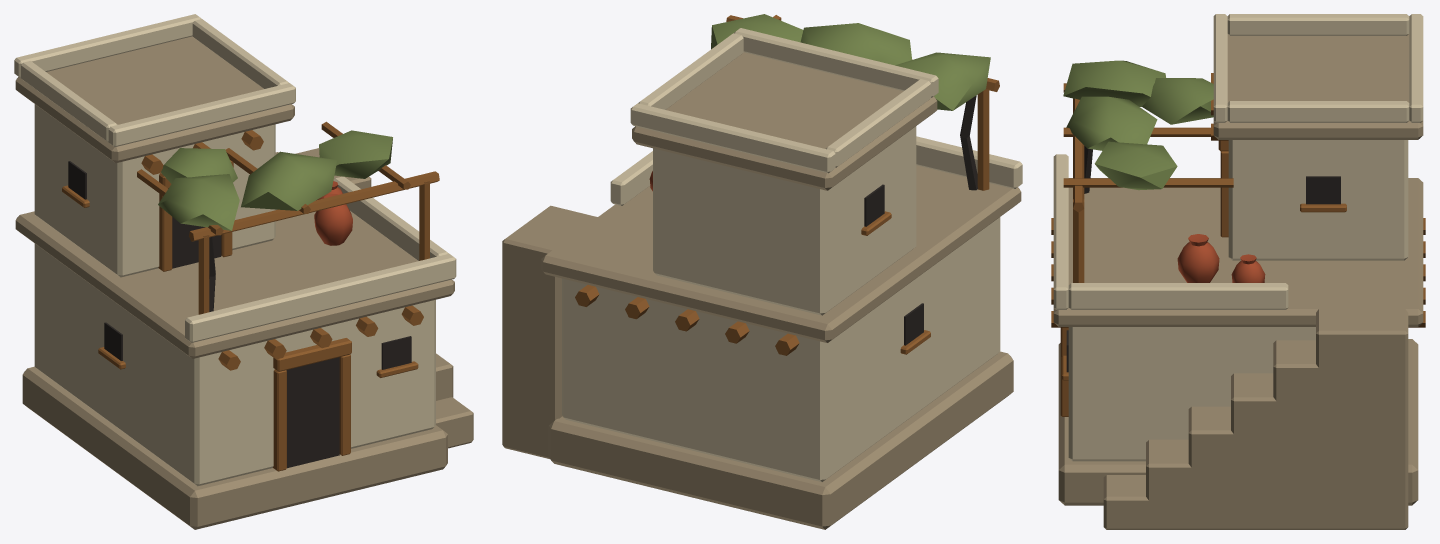
File: houseB.glb
3 views of the same model, side by side, from view 1: azimuth 30°, elevation 25°; view 2: azimuth 150°, elevation 25°; view 3: azimuth 270°, elevation 25° (orthographic). The views are drawn at different scales.
Visible parts, largest first — view 1: houseB; view 2: houseB; view 3: houseB.
Boxes of the visible parts, box(x1,y1,x2,y2) form: houseB: box(14, 14, 473, 529); houseB: box(502, 14, 1022, 529); houseB: box(1051, 14, 1425, 529).
Bounding box in the file's own units: 0.74 × 0.8 × 0.75.
